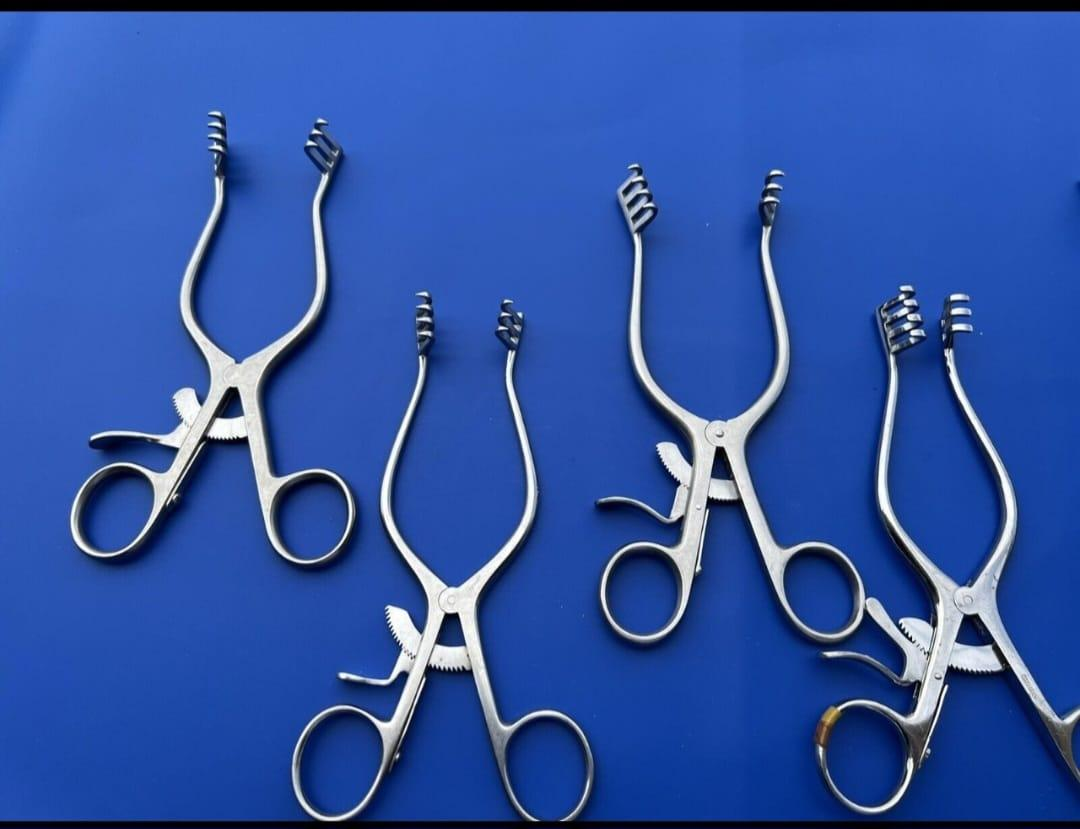Self Retractor: (289, 289, 600, 829), (815, 278, 1079, 828), (58, 108, 362, 571), (592, 154, 870, 658)
